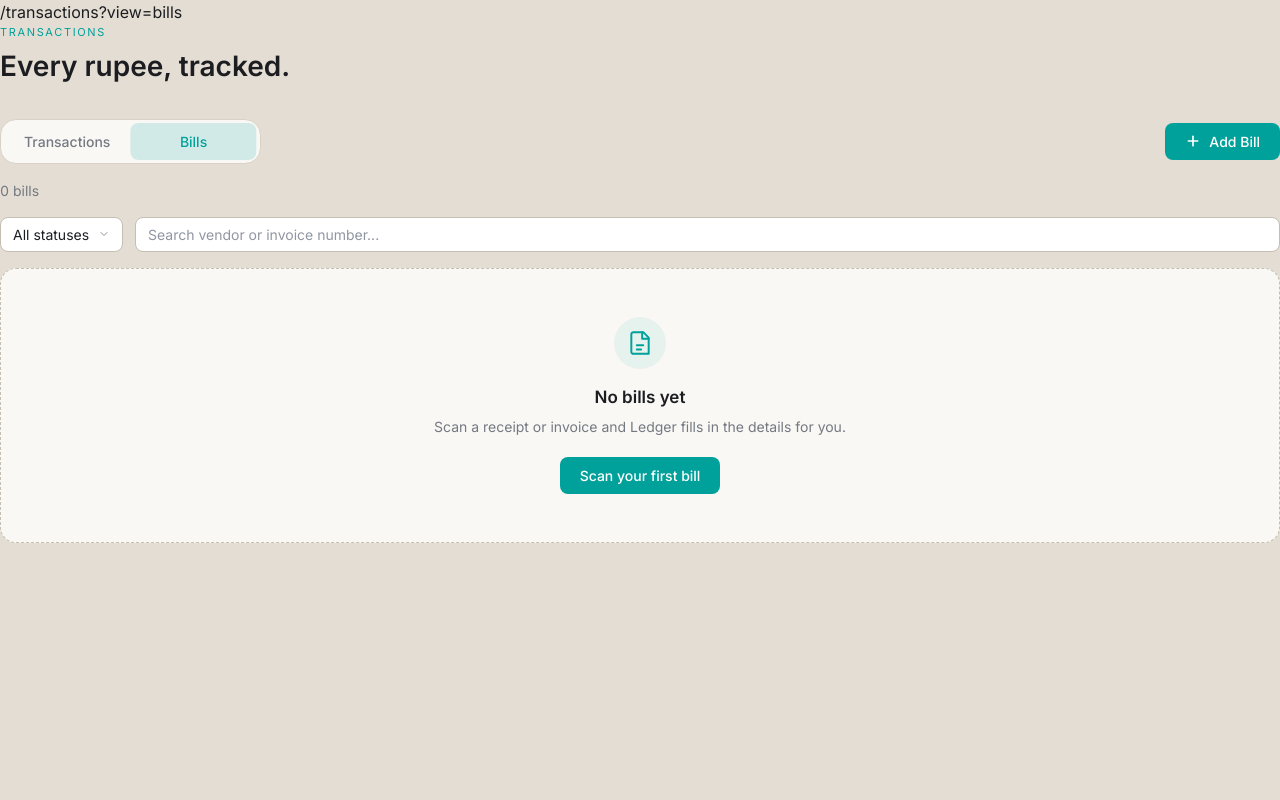
Test case: Transactions page tabs › opens the bill form with the upload dropzone from Add Bill
The image size is (1280, 800).
What coordinates should you click on to do the following:
click the button "Add Bill"
I would click on:
 (1223, 141)
Its box is x1=1165 y1=122 x2=1279 y2=160.
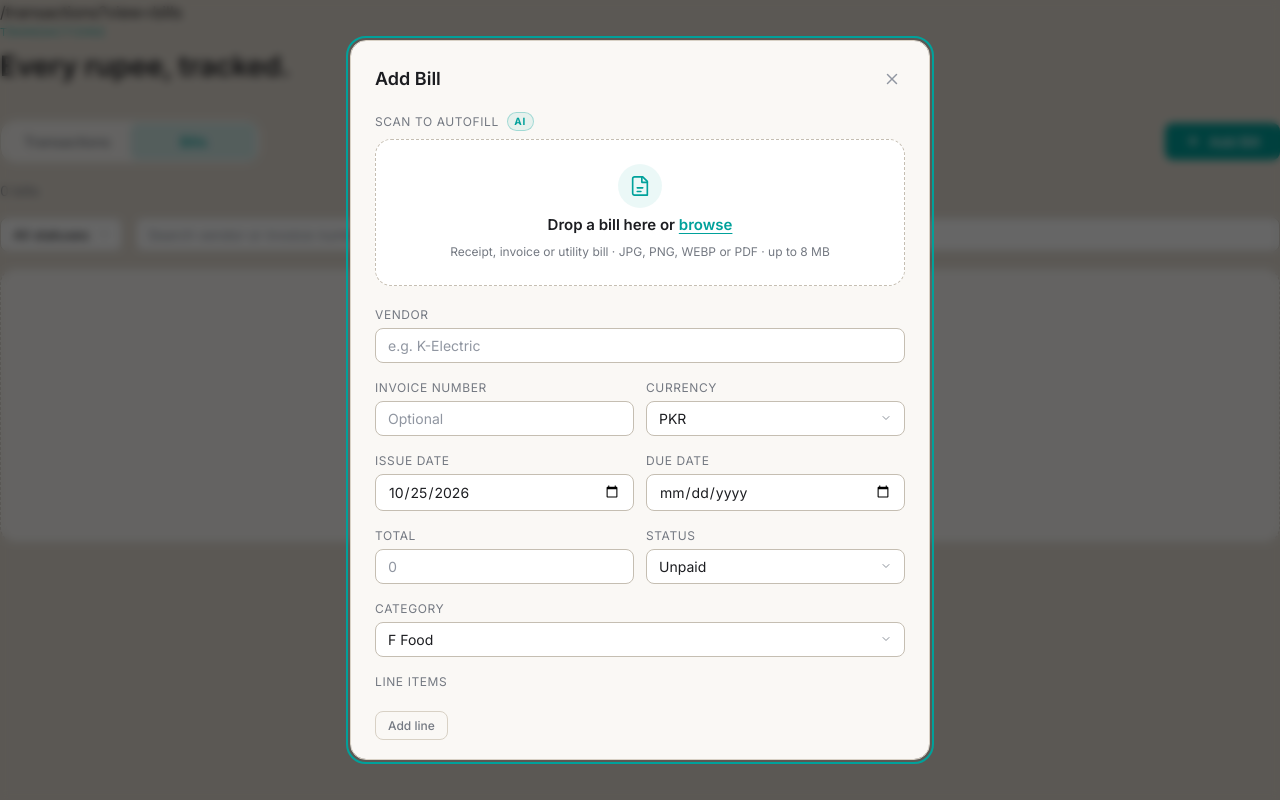
Now the text "Drop a bill here or browse" is shown, box x1=548 y1=214 x2=732 y2=236
